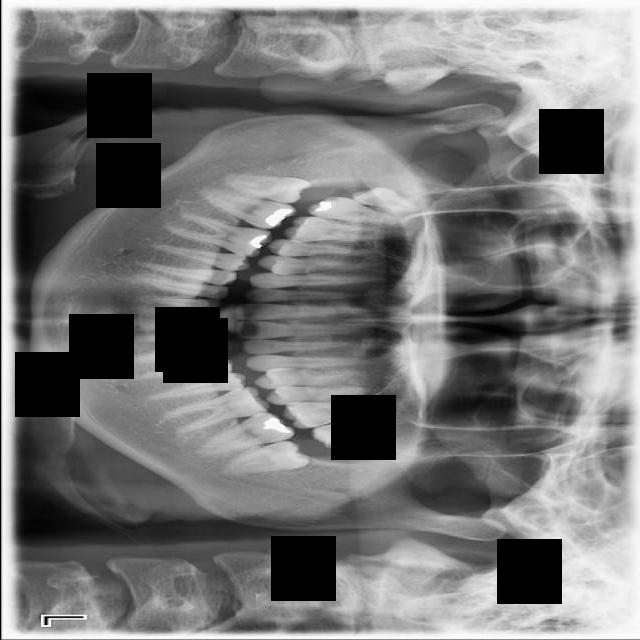3M ESPE Implant: (350, 182, 422, 215)
52: (239, 400, 297, 456), (242, 190, 299, 241), (220, 374, 273, 428), (223, 225, 272, 259), (306, 195, 359, 221), (322, 196, 339, 203)
73: (16, 622, 24, 625)
BioHorizons Implant: (308, 413, 413, 452)
Biomet 3i Implant: (220, 438, 311, 476)
Blue Sky Bio Implant: (192, 406, 296, 459)
Caries: (305, 191, 421, 235)
Implant: (192, 185, 297, 235)
Keystone Dental Implant: (221, 171, 311, 205)
